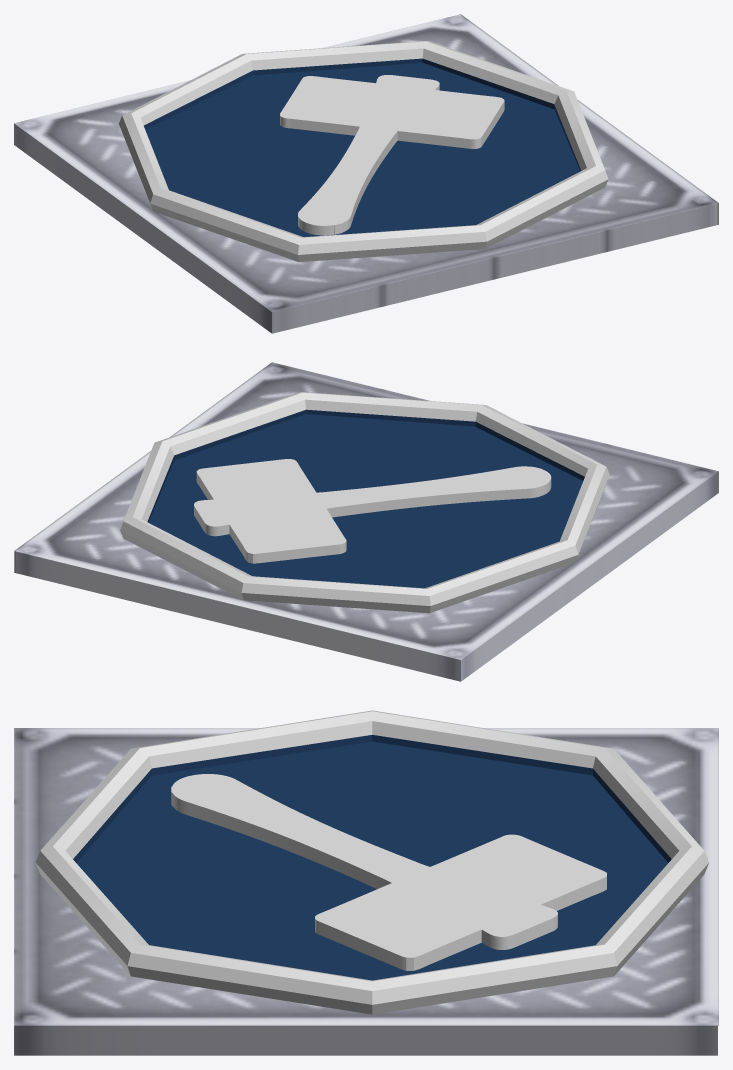
Rendered from insaa.fbx.
3 renders of one model, top to bottom at view 1: azimuth 30°, elevation 25°; view 2: azimuth 150°, elevation 25°; view 3: azimuth 270°, elevation 25°, orthographic. The views are drawn at different scales.
Parts seen in each view (by area): view 1: insaa; view 2: insaa; view 3: insaa.
Part boxes in pixels (x1=…): insaa: x1=14, y1=14, x2=718, y2=333; insaa: x1=14, y1=362, x2=718, y2=681; insaa: x1=14, y1=710, x2=718, y2=1055.
Size of the model in its own units: 200 by 18.71 by 200.
